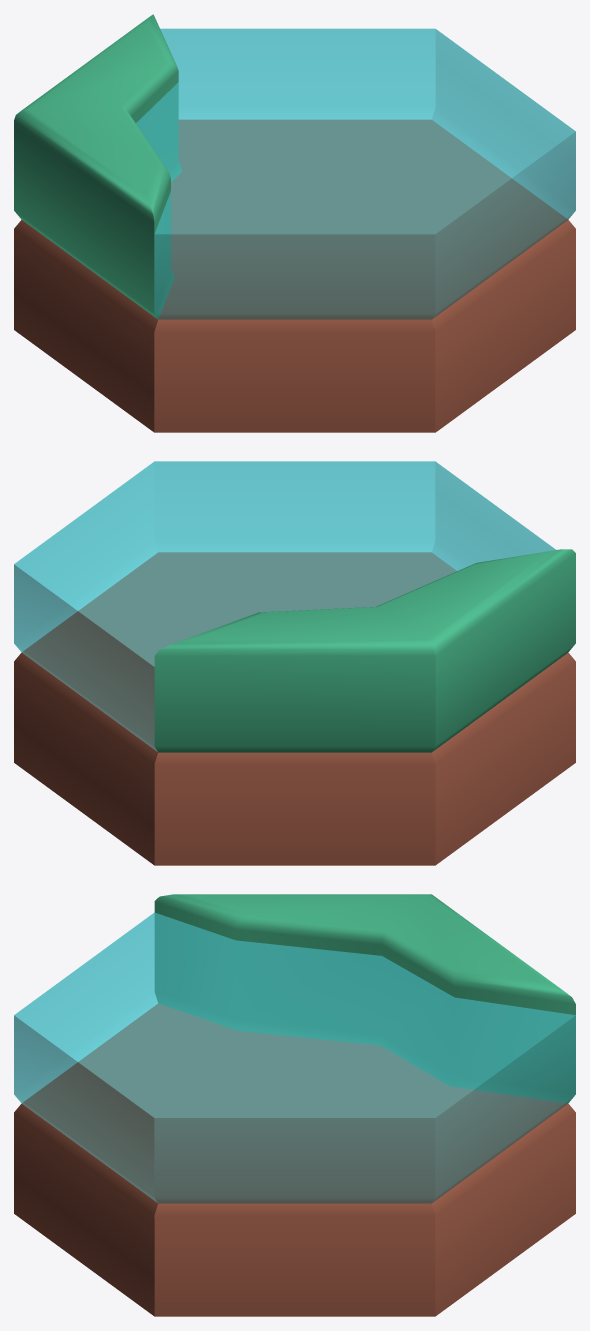
File: hex_forest_waterA_detail.fbx
The picture shows the model from 3 angles, top to bottom: view 1: azimuth 30°, elevation 25°; view 2: azimuth 150°, elevation 25°; view 3: azimuth 270°, elevation 25°; orthographic projection.
Visible parts, largest first — view 1: hex_forest_waterA_detail; view 2: hex_forest_waterA_detail; view 3: hex_forest_waterA_detail.
Part boxes in pixels (left/top/right/bottom): hex_forest_waterA_detail: left=14, top=14, right=575, bottom=432; hex_forest_waterA_detail: left=14, top=461, right=575, bottom=865; hex_forest_waterA_detail: left=14, top=894, right=575, bottom=1316.
Bounding box in the file's own units: 200 × 100 × 231.
